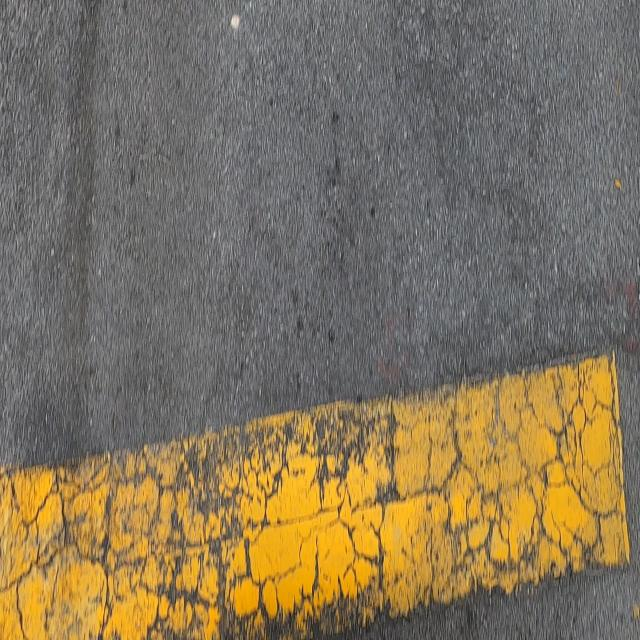Retak-Buaya: (2, 358, 630, 640)
